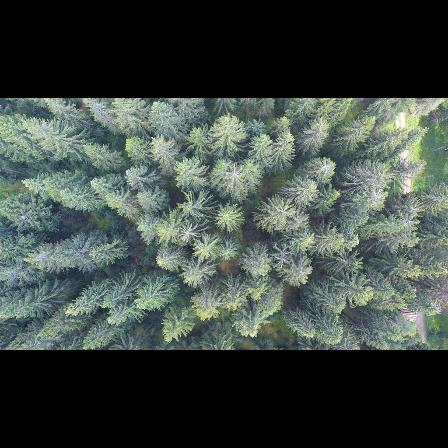Sick: (271, 243, 290, 269), (175, 223, 199, 242), (228, 161, 247, 181), (276, 205, 291, 218)
